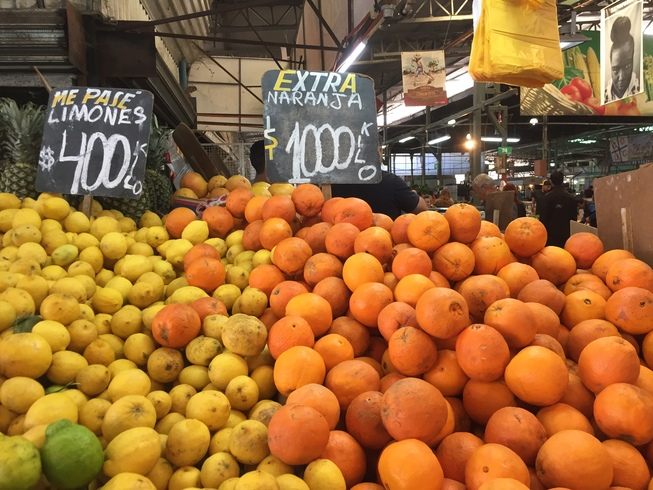precio: (264, 69, 382, 182), (36, 86, 155, 198)
